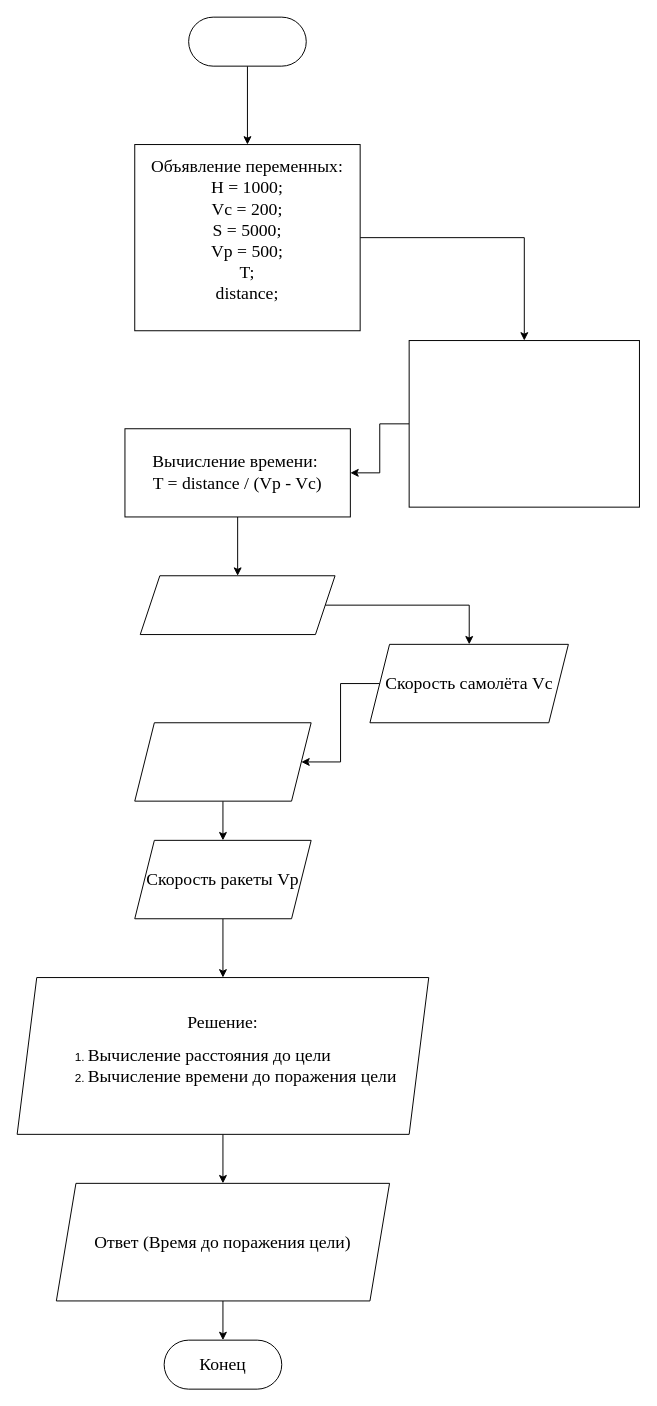
This 657x1406 diagram has some shape labels left out. The shapes that lost their labels are listed below. From the top down, each one's box as (x1, y1, x2, y2) in pixels, then its label:
(188, 16, 306, 66): Начало
(408, 340, 639, 507): Вычисление расстояния: distance = √(S² + H²)
(139, 575, 335, 635): Высота H
(134, 722, 311, 801): Расстояние S
